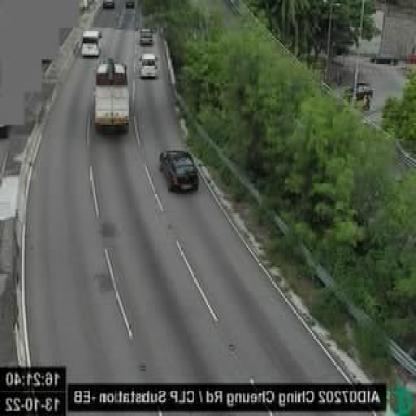Car: (160, 146, 199, 196), (79, 29, 99, 57), (141, 52, 159, 77), (140, 28, 153, 44), (103, 1, 113, 10), (124, 1, 134, 10)
Truck: (93, 62, 131, 134)
